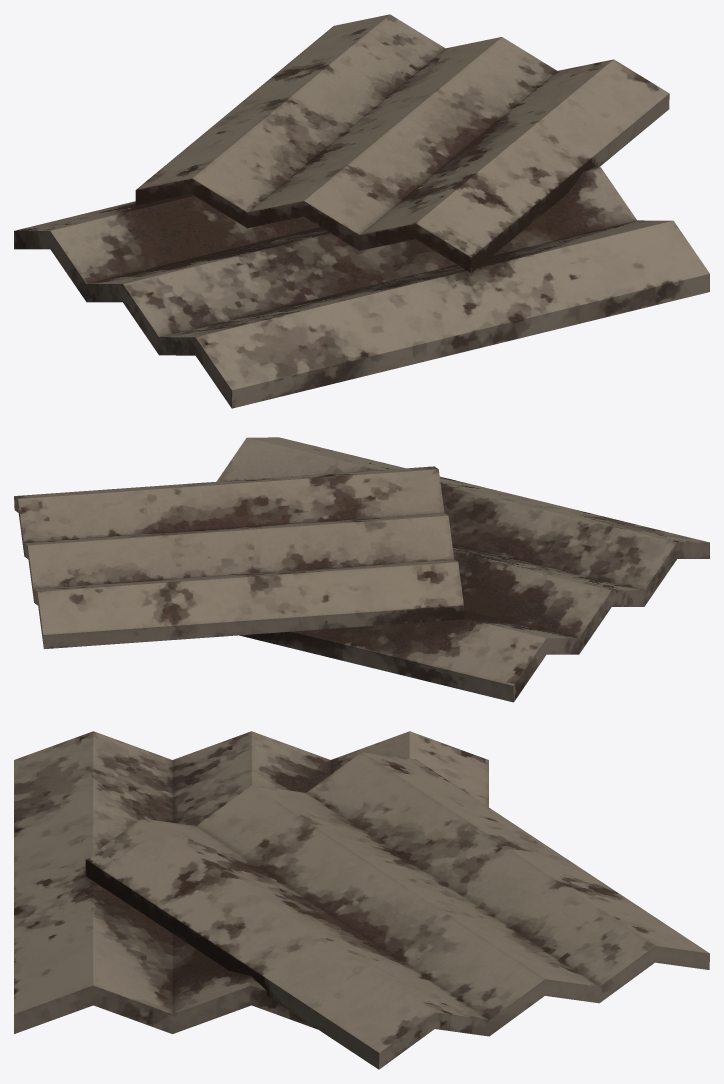
The model's file is Metal.glb.
The picture shows the model from 3 angles, top to bottom: view 1: azimuth 30°, elevation 25°; view 2: azimuth 150°, elevation 25°; view 3: azimuth 270°, elevation 25°; orthographic projection. The views are drawn at different scales.
Visible parts, largest first — view 1: Cube.008; view 2: Cube.008; view 3: Cube.008.
Part boxes in pixels (box(x1,y1,x2,y2)): Cube.008: box(14, 14, 709, 408); Cube.008: box(14, 437, 709, 702); Cube.008: box(14, 731, 709, 1069).
Bounding box in the file's own units: 2.48 × 0.329 × 2.26.
1 material, 1 textured.
